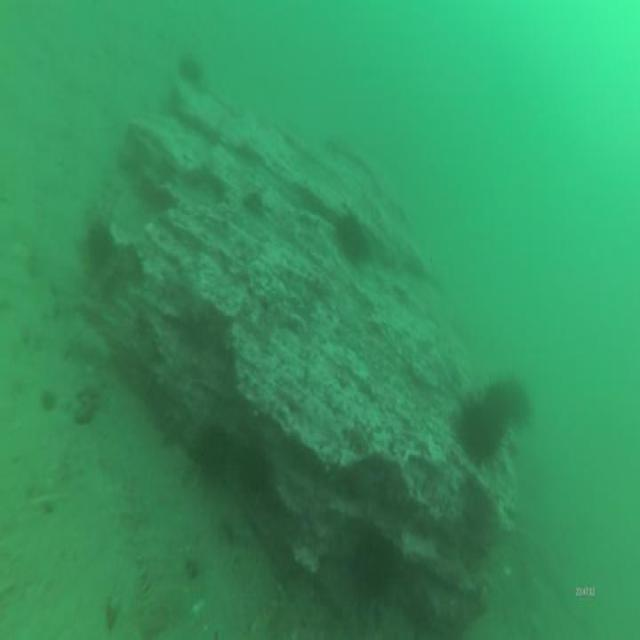echinus: (456, 390, 503, 470), (352, 528, 393, 602), (330, 204, 370, 273), (195, 417, 229, 490), (482, 374, 516, 442), (500, 368, 532, 432), (460, 479, 492, 540), (84, 215, 114, 276), (236, 436, 268, 492), (177, 46, 204, 87)
